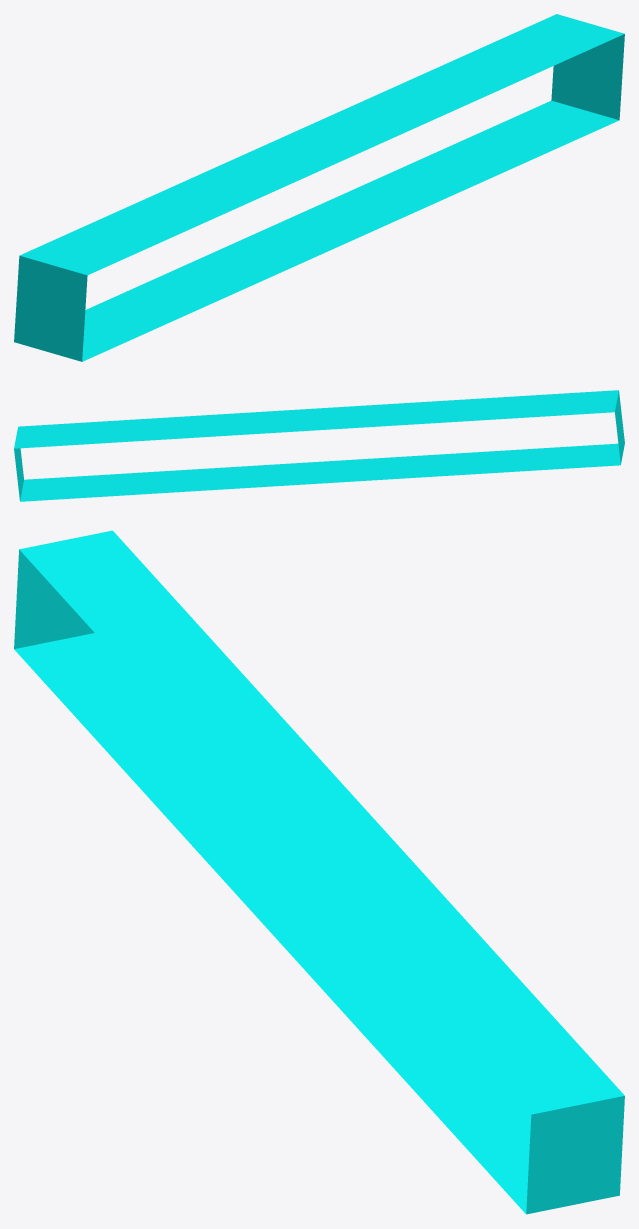
File: original-6.obj
3 renders of one model, top to bottom at view 1: azimuth 30°, elevation 25°; view 2: azimuth 150°, elevation 25°; view 3: azimuth 270°, elevation 25°, orthographic. The views are drawn at different scales.
Visible parts, largest first — view 1: Group7/mesh5/mesh5-geometry#mesh5-geometry; view 2: Group7/mesh5/mesh5-geometry#mesh5-geometry; view 3: Group7/mesh5/mesh5-geometry#mesh5-geometry.
Boxes of the visible parts, left/top/right/bottom form: Group7/mesh5/mesh5-geometry#mesh5-geometry: left=14, top=14, right=624, bottom=361; Group7/mesh5/mesh5-geometry#mesh5-geometry: left=14, top=390, right=624, bottom=501; Group7/mesh5/mesh5-geometry#mesh5-geometry: left=14, top=530, right=624, bottom=1214.
Size of the model in its own units: 0.1141 by 0.0241 by 0.0618.
